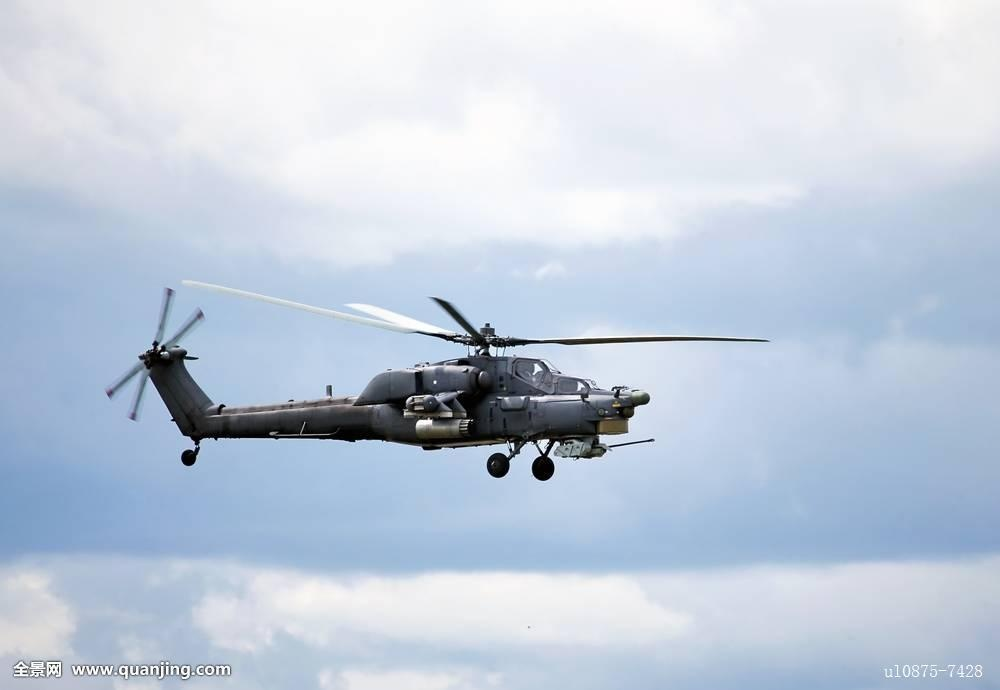airplane: (101, 278, 781, 477)
